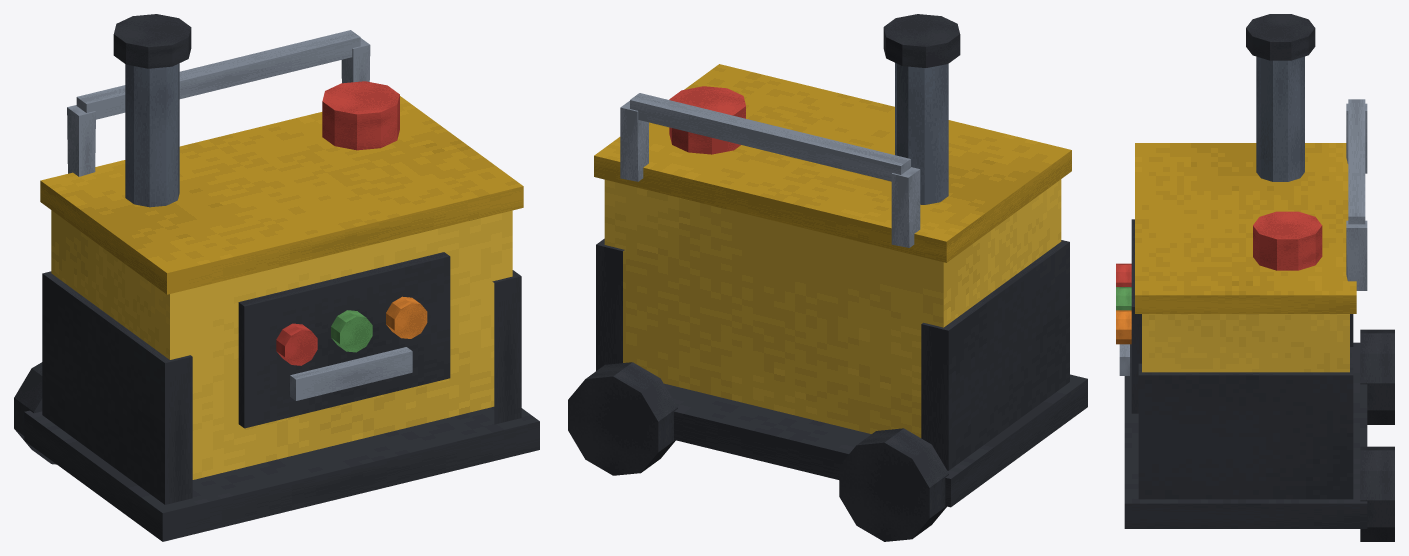
File: prop_generator.glb
3 renders of one model, left to right at view 1: azimuth 30°, elevation 25°; view 2: azimuth 150°, elevation 25°; view 3: azimuth 270°, elevation 25°, orthographic. The views are drawn at different scales.
Parts seen in each view (by area): view 1: prop_generator; view 2: prop_generator; view 3: prop_generator.
Part boxes in pixels (x1=…): prop_generator: x1=14, y1=14, x2=539, y2=541; prop_generator: x1=568, y1=14, x2=1087, y2=541; prop_generator: x1=1116, y1=14, x2=1394, y2=541.
Bounding box in the file's own units: 1.1 × 1.29 × 0.805.
Materials: 1 (1 with a texture image).
